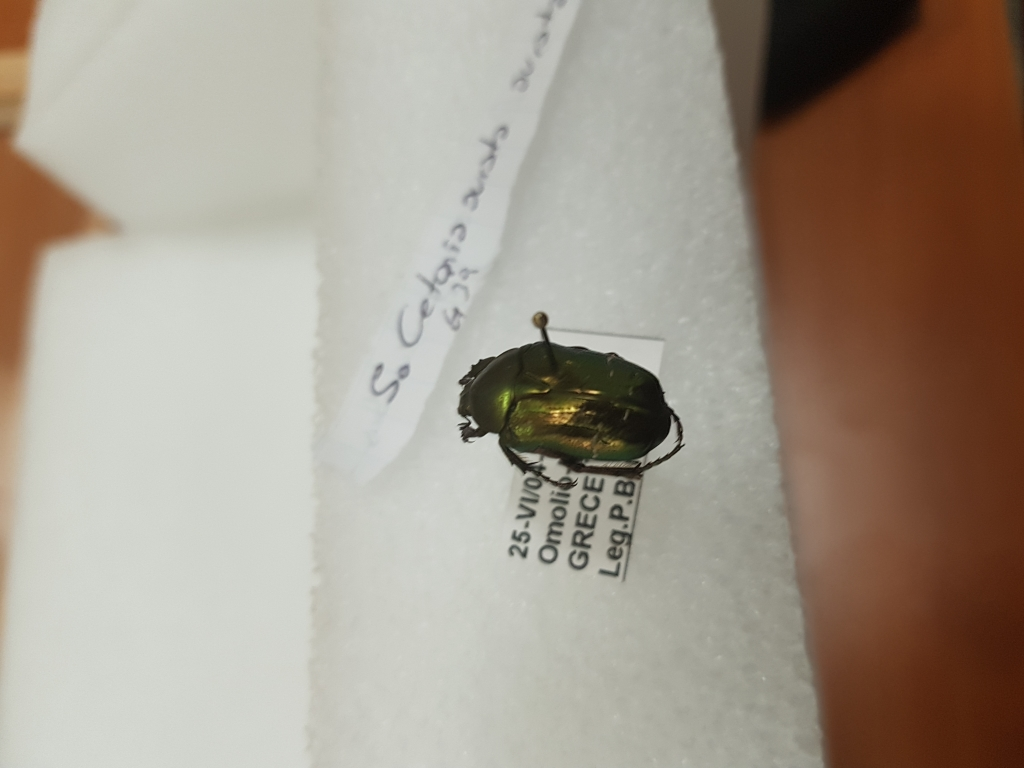Cetonia_aurata: (447, 340, 690, 494)
